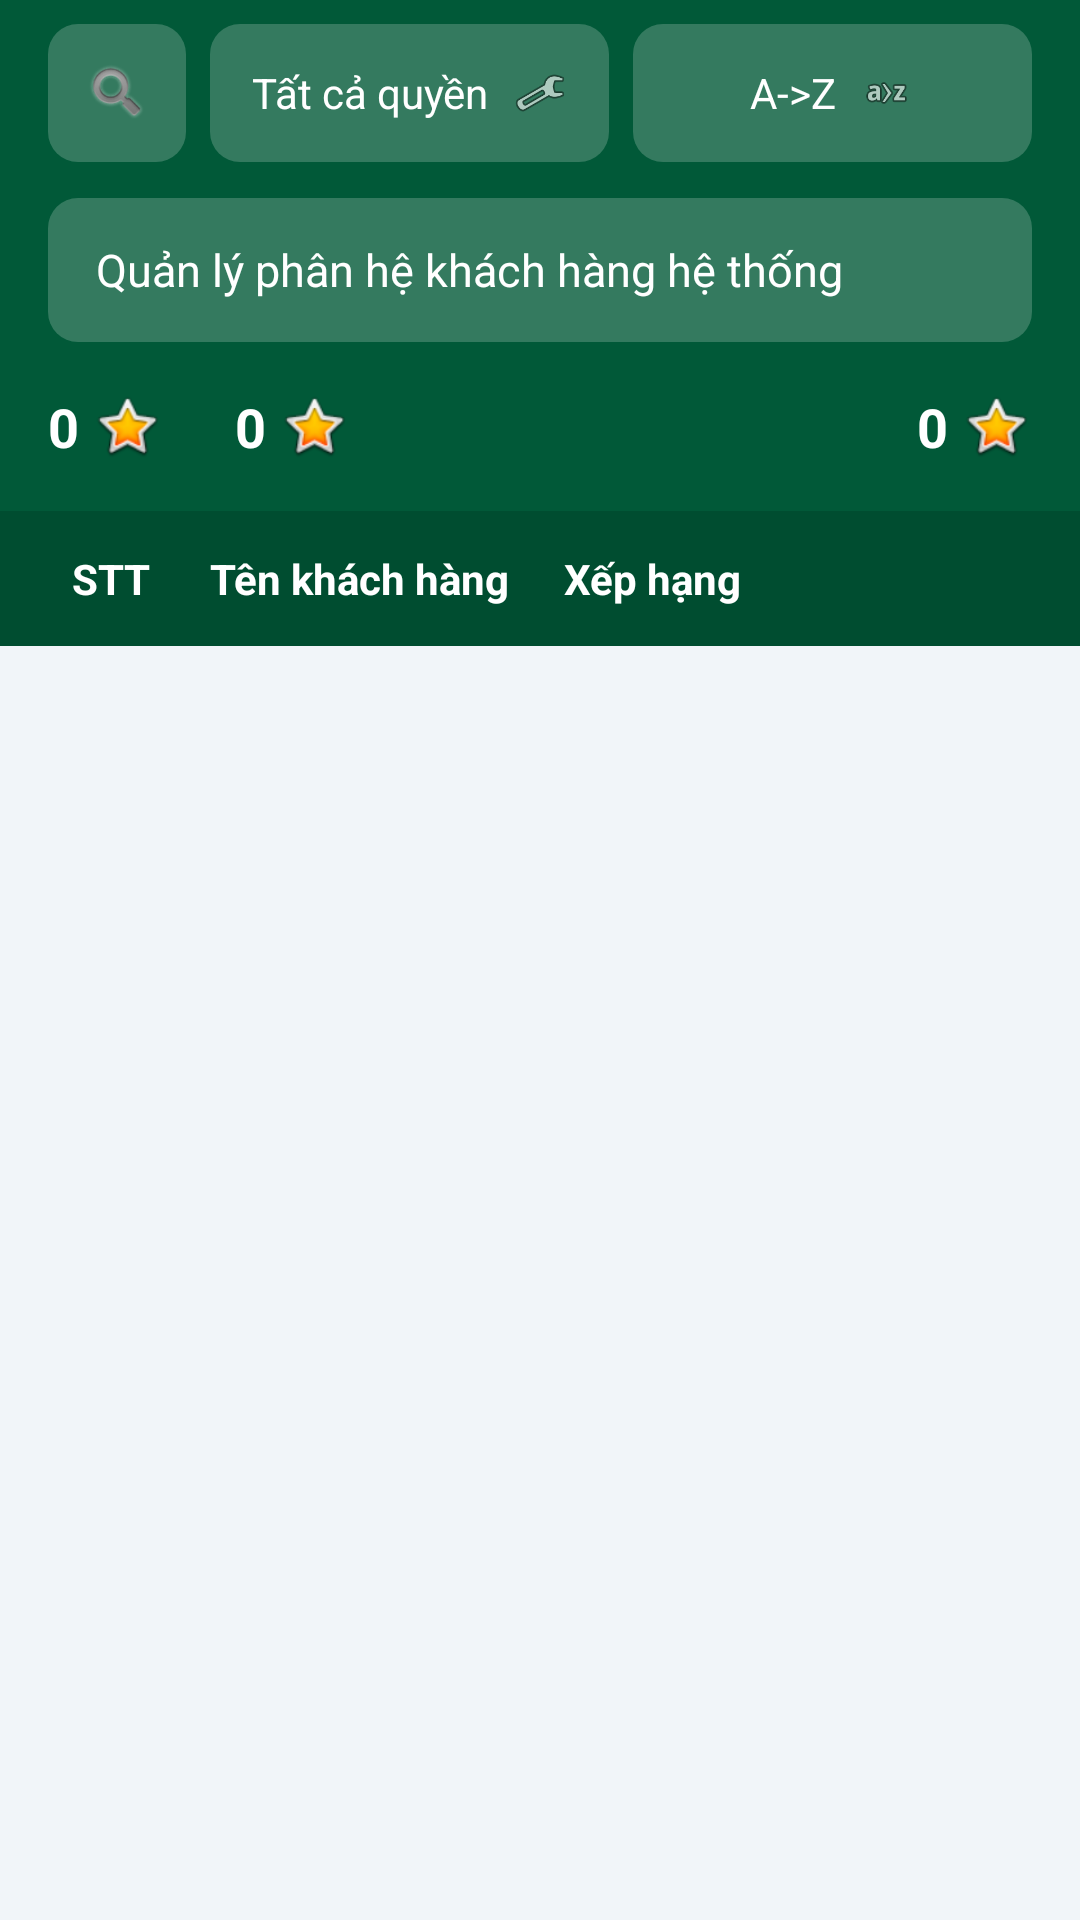

Icons on this 1080w x 1920h Android screen, each with the point to tap as (x=x, y=y):
manage: (x=540, y=93)
sort alphabetically: (x=886, y=93)
star on: (x=128, y=426), (x=315, y=426), (x=997, y=426)
